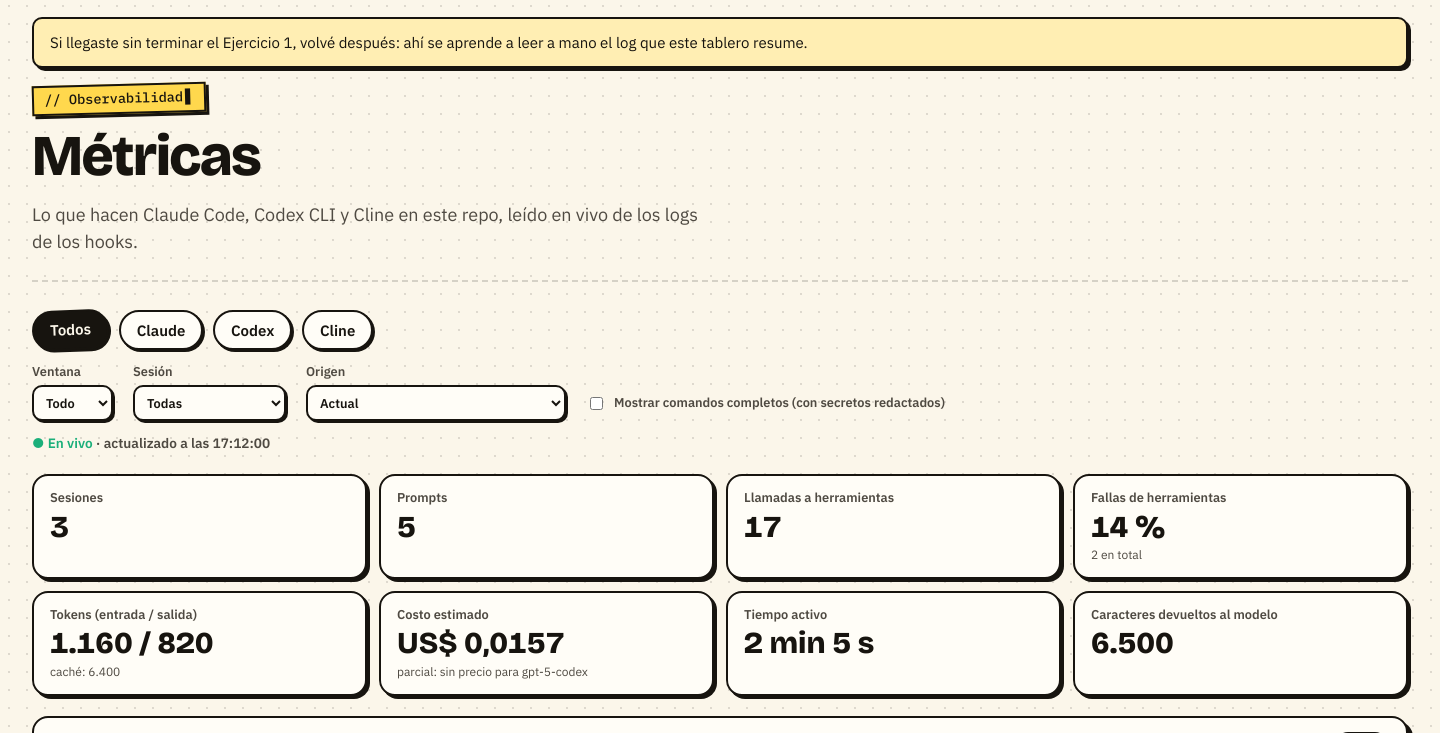
it: Métricas: modo detalle › está apagado por defecto y se activa con un toggle, sin variables de entorno
The width and height of the screenshot is (1440, 733).
Expected: the heading "Métricas" is shown, [32,121,260,191]
Expected: the element "Comandos recientes" is not shown
Click the checkbox labelled "Mostrar comandos completos (con secretos redactados)".
click(596, 403)  # box [590,397,603,410]
(page scrolled)
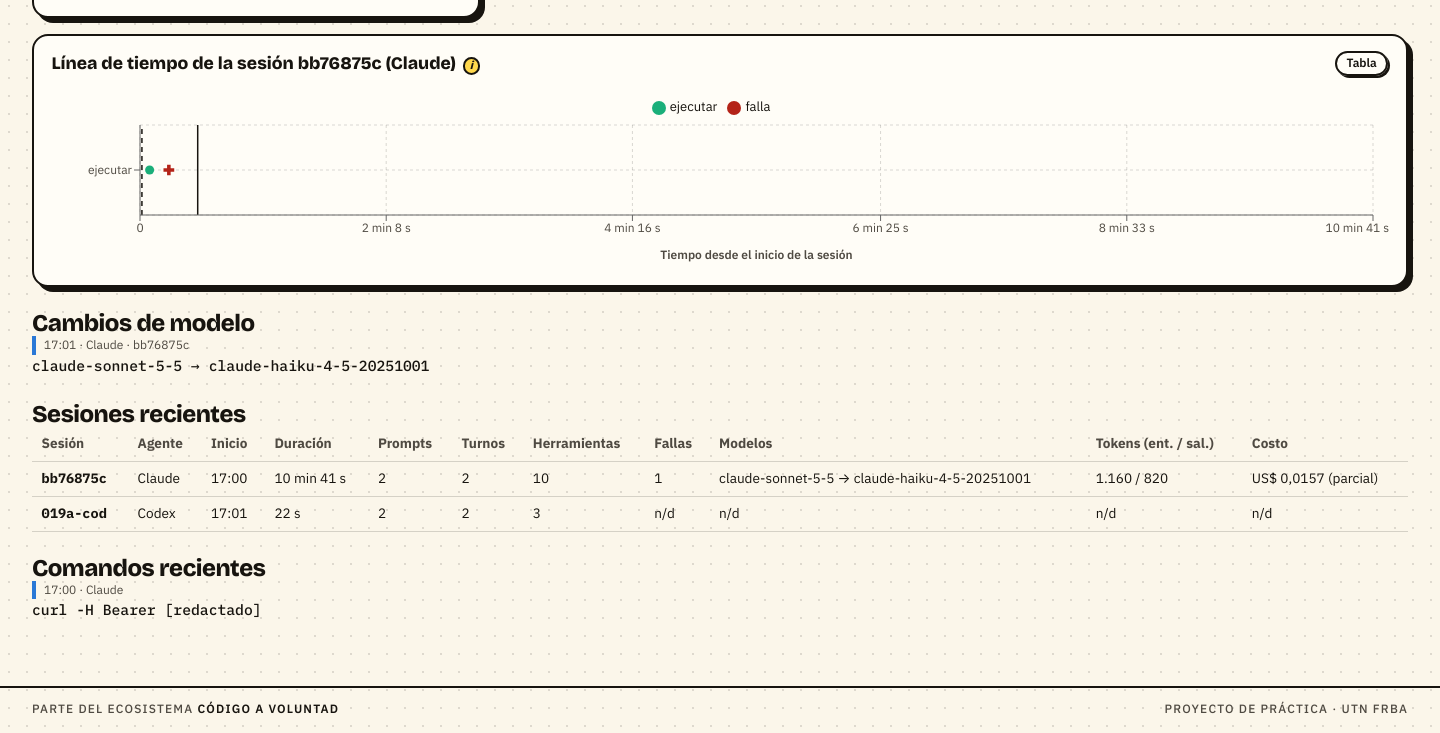
Now the element "Comandos recientes" shows "Bearer [redactado]", box [32,600,262,619]
